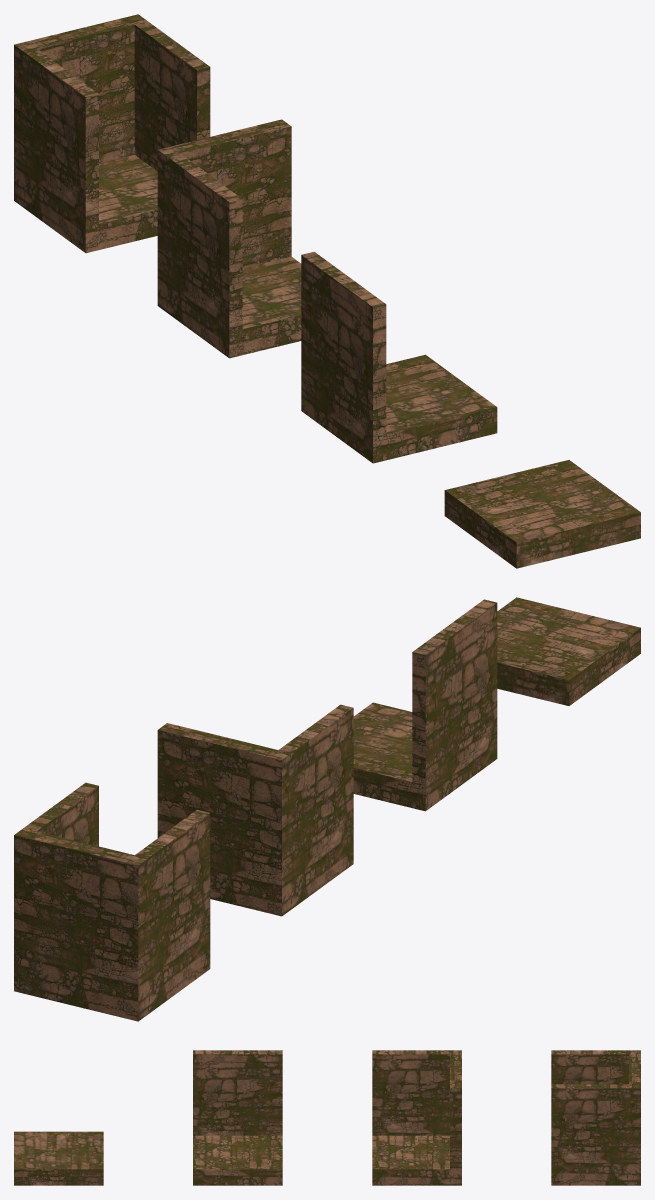
File: tileset.glb
3 renders of one model, top to bottom at view 1: azimuth 30°, elevation 25°; view 2: azimuth 150°, elevation 25°; view 3: azimuth 270°, elevation 25°, orthographic. The views are drawn at different scales.
Parts seen in each view (by area): view 1: end-col, corner-col, wall-col, floor-col; view 2: end-col, corner-col, wall-col, floor-col; view 3: corner-col, end-col, wall-col, floor-col.
Boxes of the visible parts, x1=… form: end-col: x1=14, y1=14, x2=210, y2=253; corner-col: x1=157, y1=119, x2=301, y2=358; wall-col: x1=301, y1=251, x2=497, y2=463; floor-col: x1=444, y1=460, x2=640, y2=568; end-col: x1=14, y1=782, x2=210, y2=1021; corner-col: x1=157, y1=704, x2=353, y2=916; wall-col: x1=353, y1=599, x2=497, y2=811; floor-col: x1=497, y1=597, x2=640, y2=705; corner-col: x1=372, y1=1050, x2=461, y2=1185; end-col: x1=551, y1=1050, x2=640, y2=1185; wall-col: x1=193, y1=1050, x2=282, y2=1185; floor-col: x1=14, y1=1131, x2=103, y2=1185.
Size of the model in its own units: 1 by 1.2 by 7.
Materials: 1 (1 with a texture image).
